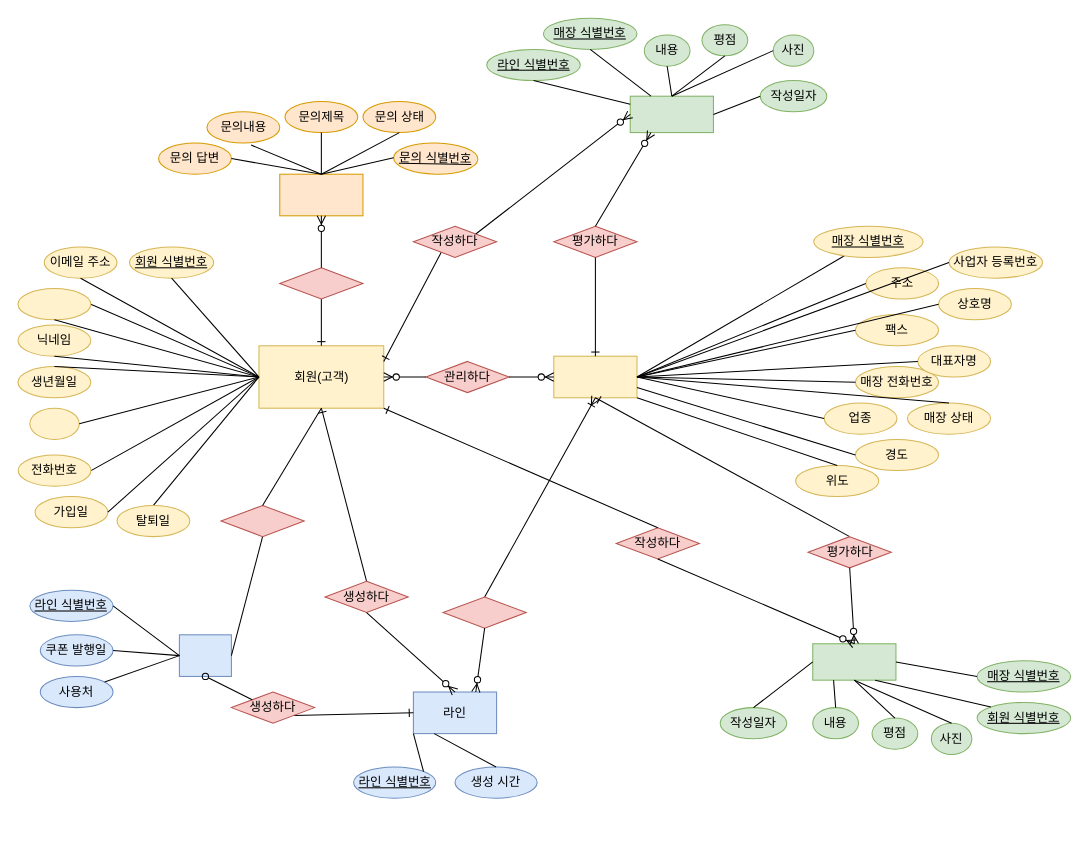
Image size: 1090x856. Some labels were removed from this diagram. The centre of each missing label's shape, as x and y in pixels:
구성한다: the point at 484,612
리뷰: the point at 671,114
매장: the point at 595,376
메모: the point at 854,661
문의: the point at 321,194
문의하다: the point at 321,283
비밀번호: the point at 54,304
사용하다: the point at 262,520
성별: the point at 54,423
쿠폰: the point at 204,655
